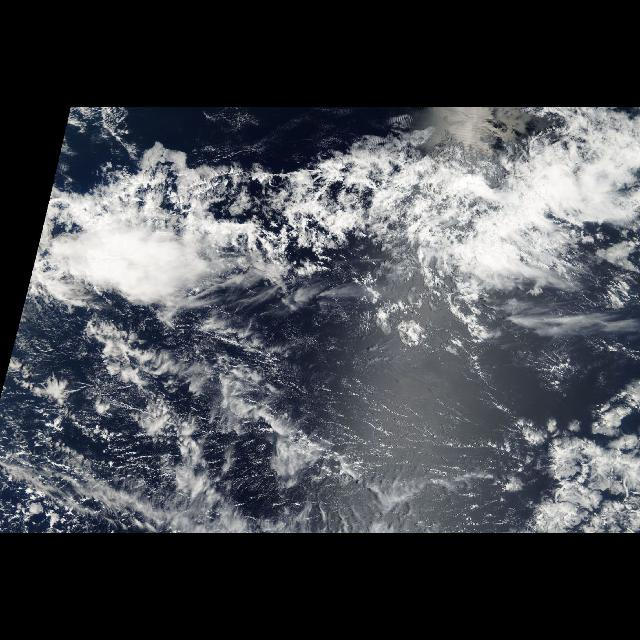Fish: (28, 129, 640, 345)
Sugar: (88, 369, 466, 533)
